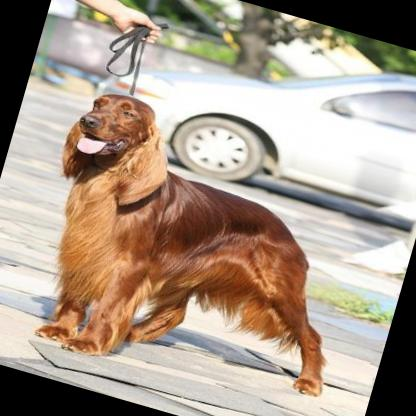Irish_setter: (9, 81, 385, 416)
